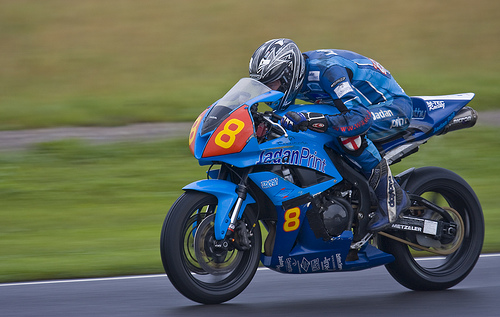helmet: (249, 43, 305, 101)
